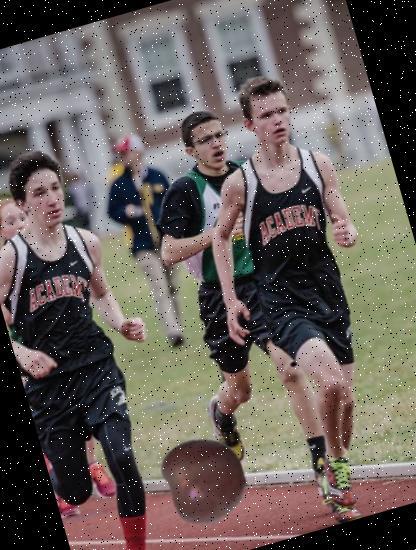Cherry: (152, 427, 258, 532)
